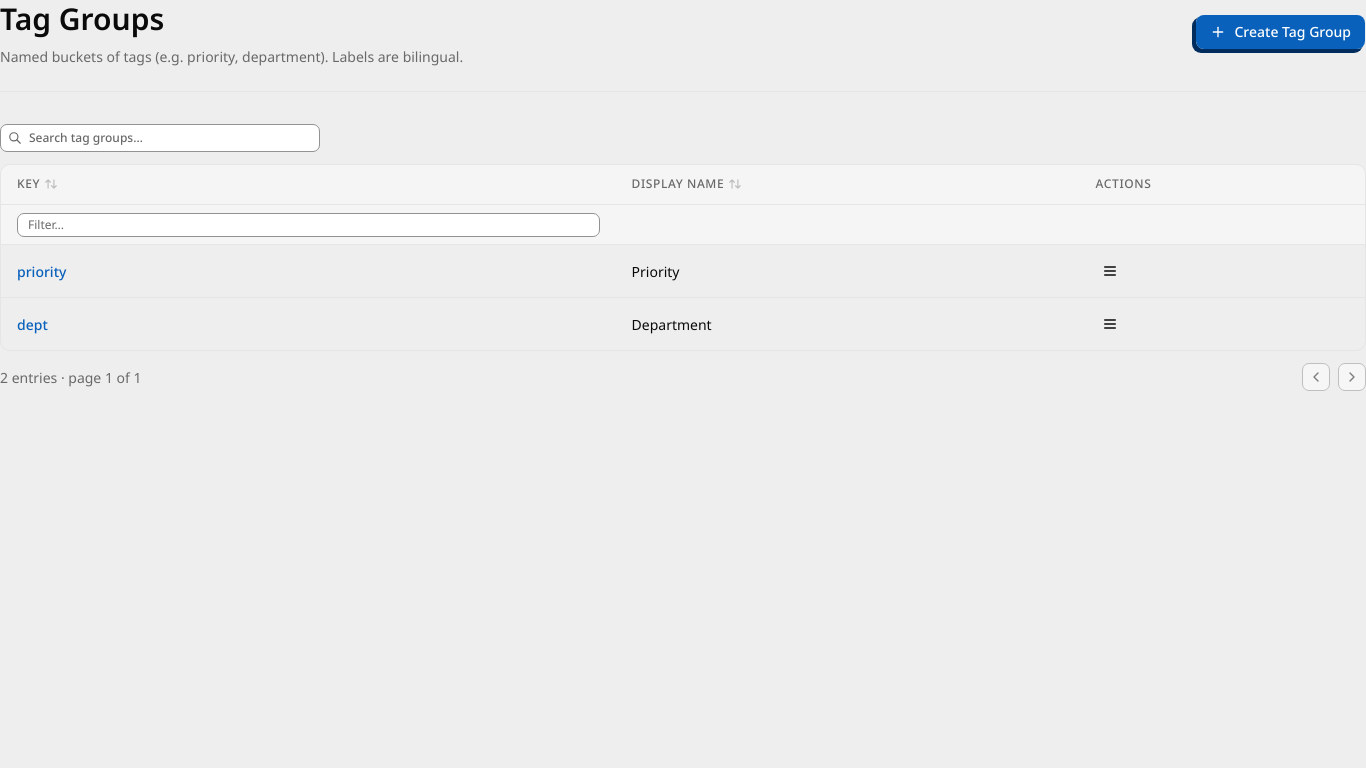
TagGroupsPage › surfaces a duplicate-key conflict (409) inline
Check: the button "priority" is shown, box x1=17 y1=260 x2=66 y2=282
Click the button "Create Tag Group" at (1281, 32), box x1=1196 y1=14 x2=1365 y2=50
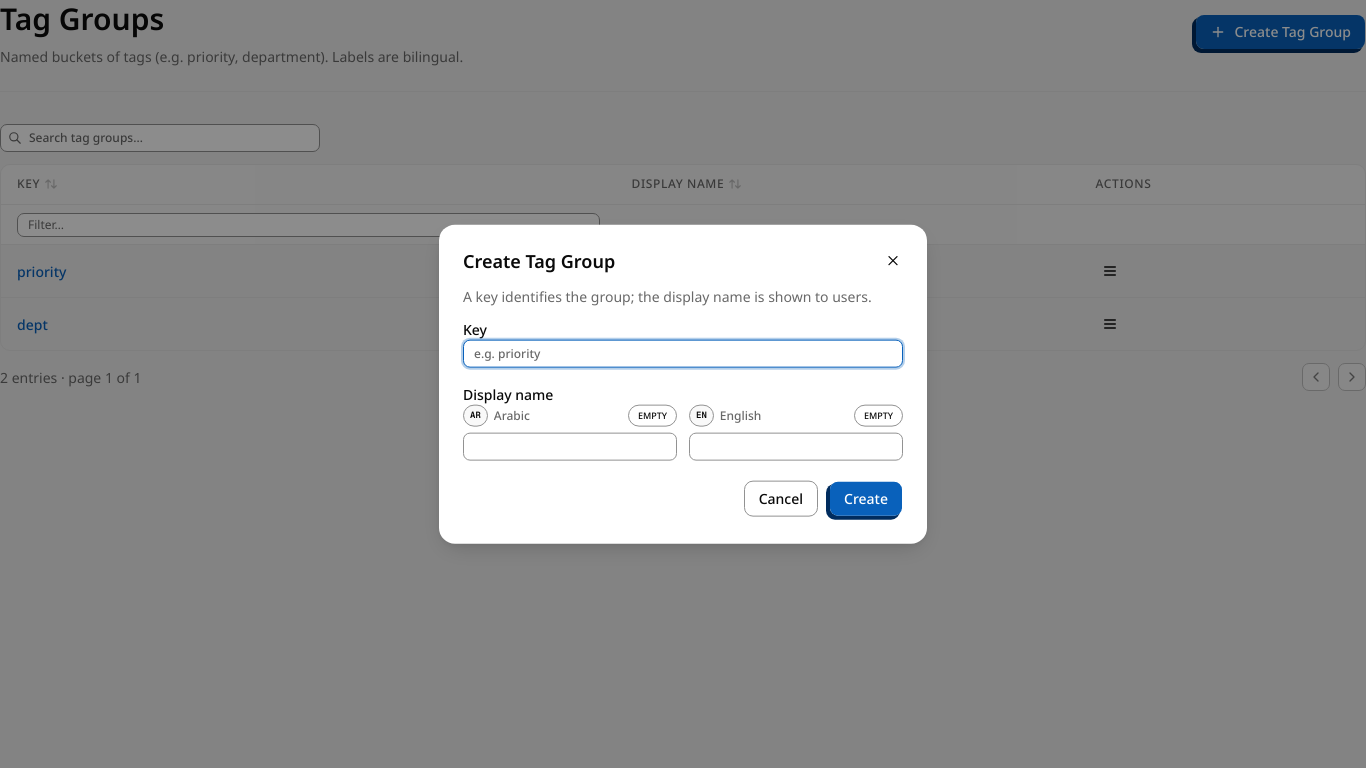
Type "priority" into the field labelled "Key" at (683, 353), box x1=463 y1=339 x2=903 y2=367
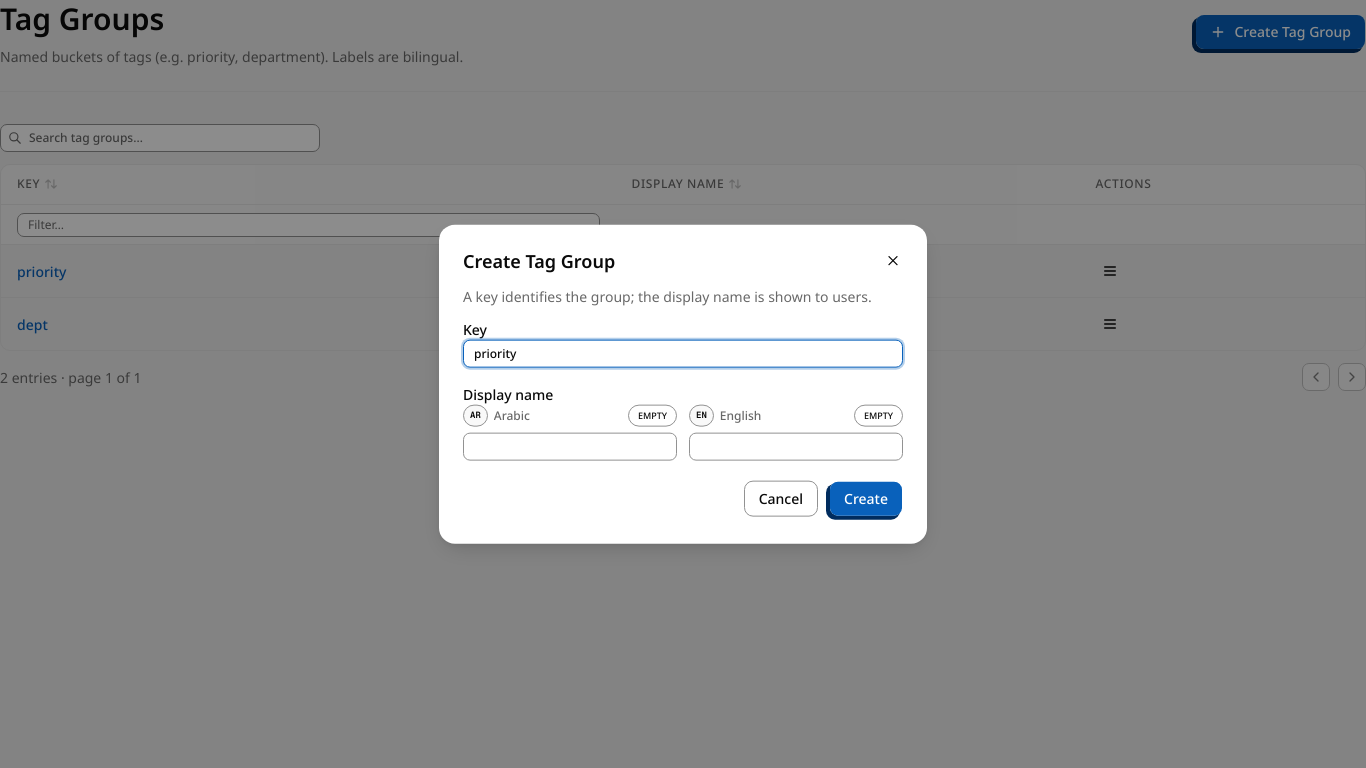
Click the button "Create" at (866, 498), box x1=829 y1=480 x2=903 y2=516
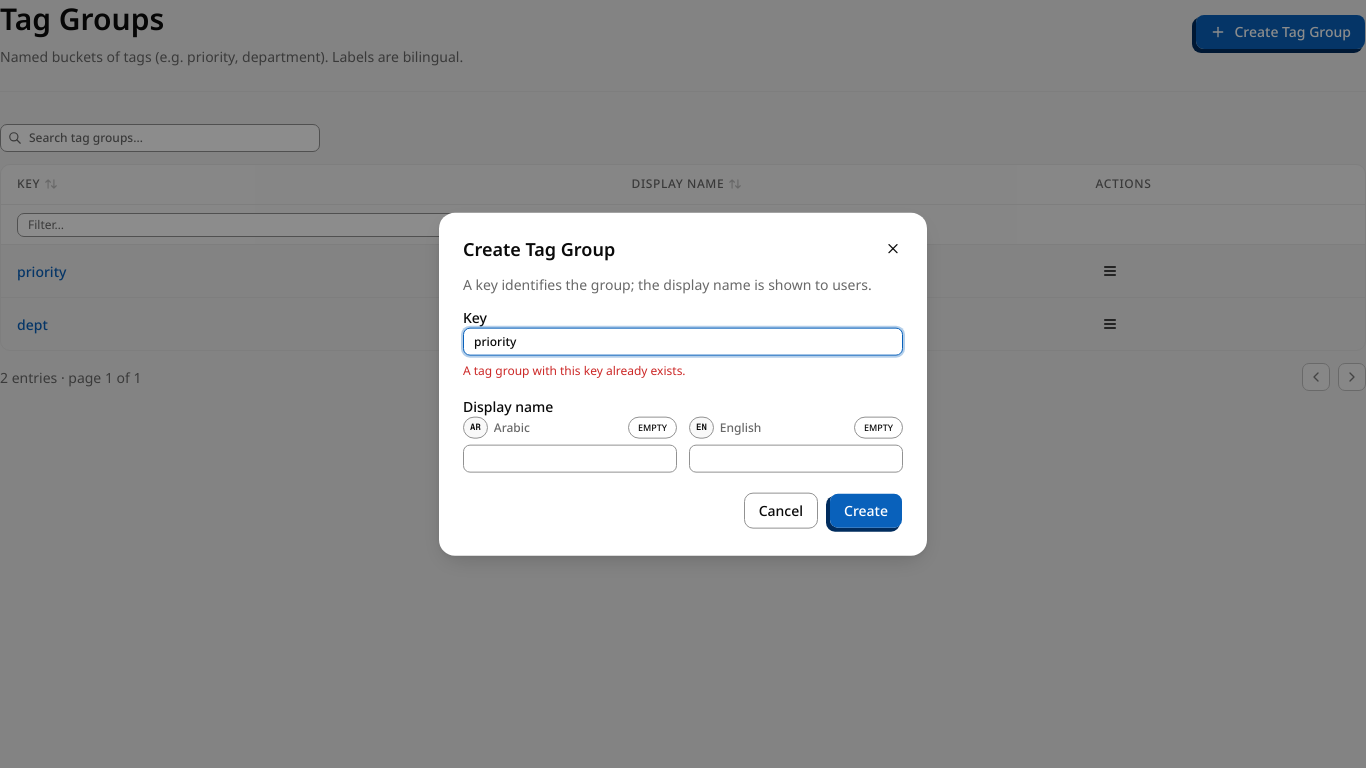
Check: the text "A tag group with this key already exists." is shown, box x1=463 y1=361 x2=686 y2=378
